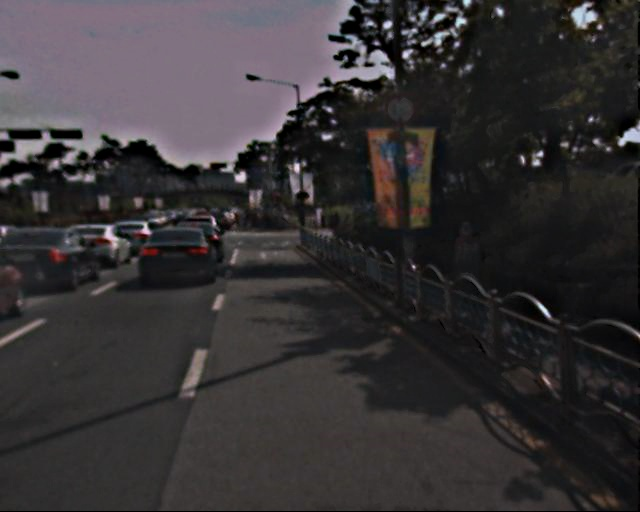person: (444, 218, 487, 323)
